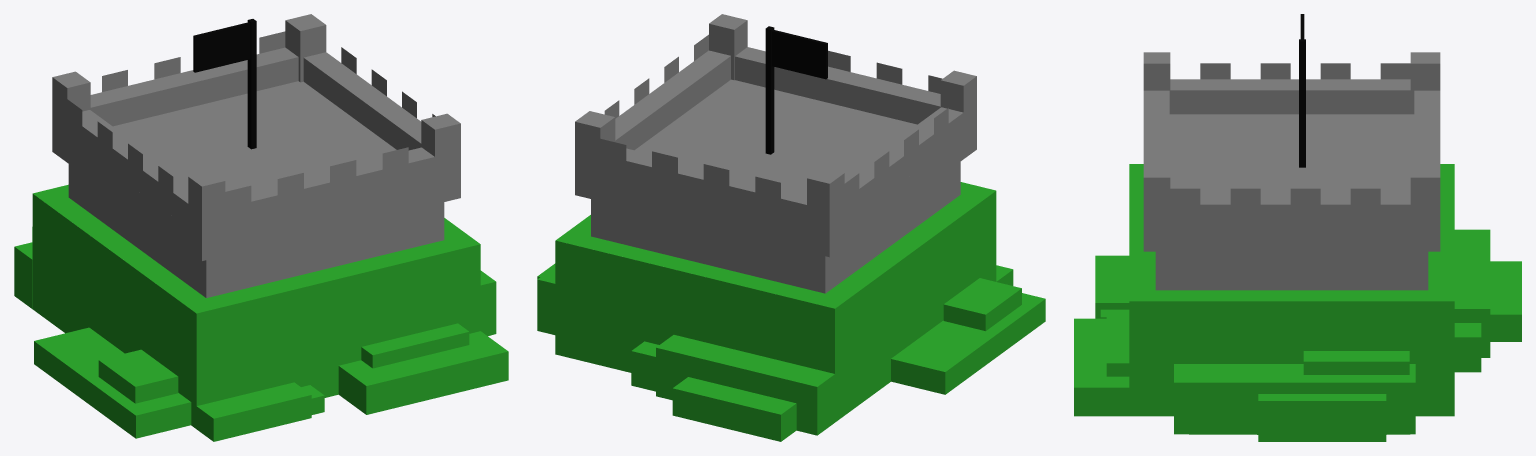
File: RoyalIsland.fbx
3 views of the same model, side by side, from view 1: azimuth 30°, elevation 25°; view 2: azimuth 150°, elevation 25°; view 3: azimuth 270°, elevation 25° (orthographic).
Parts seen in each view (by area): view 1: Island1, Flag1; view 2: Island1, Flag1; view 3: Island1, Flag1.
Part boxes in pixels (x1=…): Island1: x1=14, y1=14, x2=508, y2=441; Flag1: x1=193, y1=19, x2=256, y2=149; Island1: x1=537, y1=14, x2=1045, y2=441; Flag1: x1=765, y1=26, x2=827, y2=154; Island1: x1=1074, y1=52, x2=1521, y2=441; Flag1: x1=1299, y1=14, x2=1305, y2=167.
Bounding box in the file's own units: 1.63 × 1.23 × 1.63.
